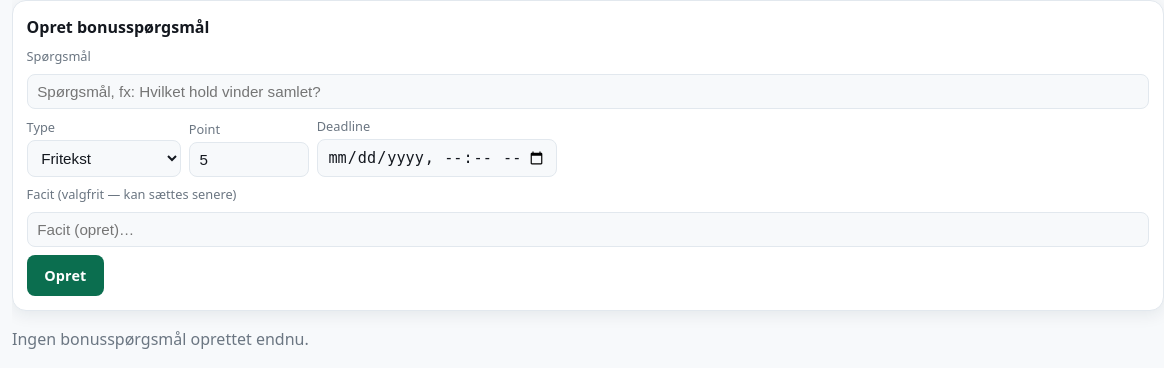
Test case: BonusTab › skifter facit-input til hold-dropdown ved type team
Step 1. Select "Hold (vælg ét)" in the dropdown with test id "bonus-new-type" → (104,159), box [27,140,181,177]
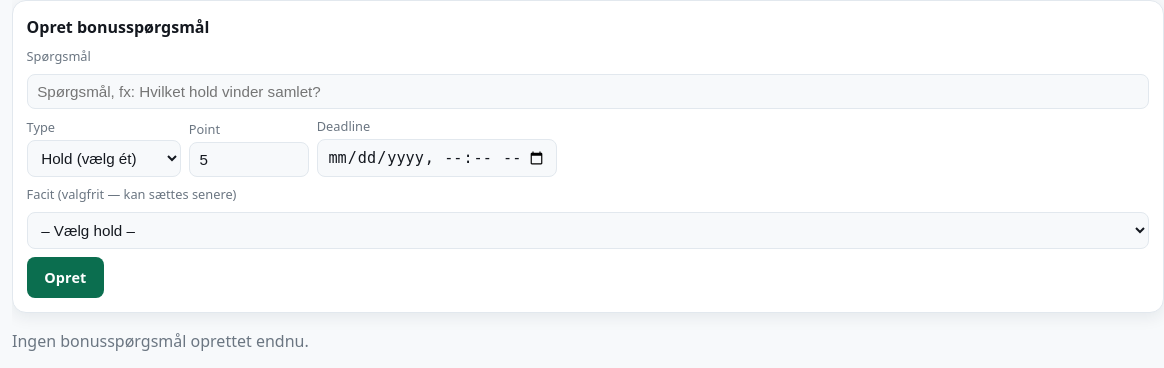
Result: the dropdown with test id "bonus-new-facit-team" is shown at [27,212,1149,249]
